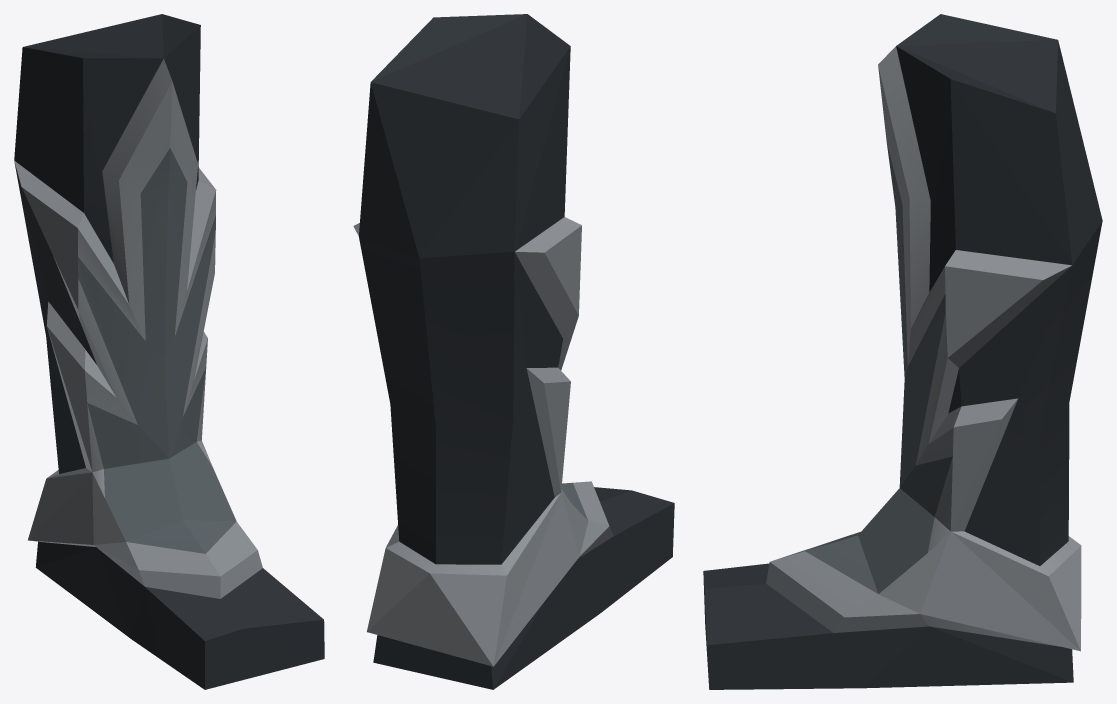
Rendered from Chr_LegRight_Male_12_Static.fbx.
3 renders of one model, left to right at view 1: azimuth 30°, elevation 25°; view 2: azimuth 150°, elevation 25°; view 3: azimuth 270°, elevation 25°, orthographic. The views are drawn at different scales.
Visible parts, largest first — view 1: Chr_LegRight_Male_12_Static; view 2: Chr_LegRight_Male_12_Static; view 3: Chr_LegRight_Male_12_Static.
Part boxes in pixels (<box>): Chr_LegRight_Male_12_Static: <box>14,14,324,689</box>; Chr_LegRight_Male_12_Static: <box>353,14,674,689</box>; Chr_LegRight_Male_12_Static: <box>703,14,1102,689</box>.
Size of the model in its own units: 0.1314 by 0.404 by 0.242.
